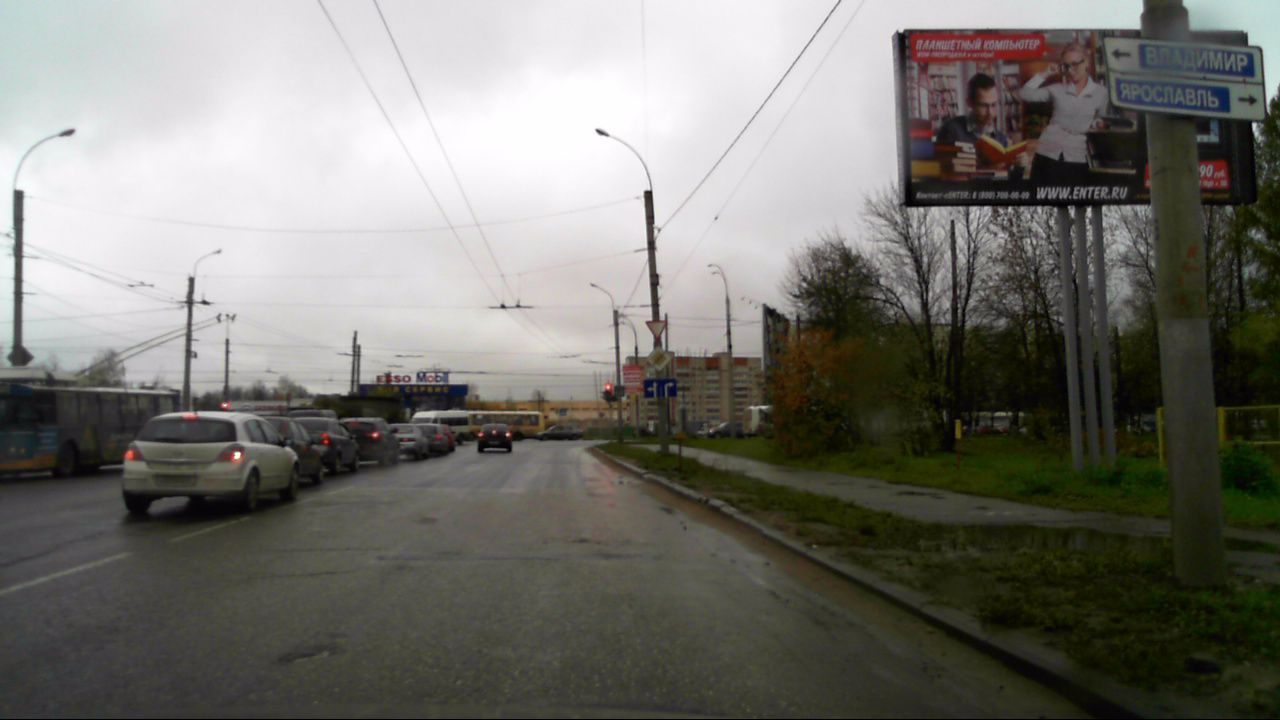main road: (646, 345, 671, 371)
